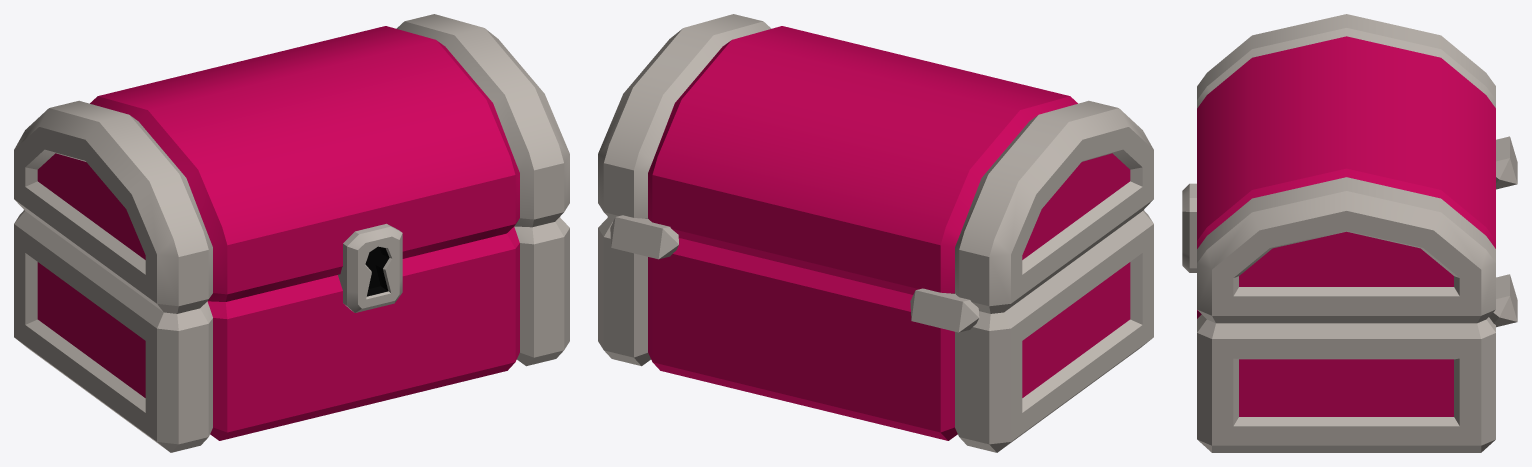
The model's file is m_dec_dung_chestLargeA_closed.fbx.
3 views of the same model, side by side, from view 1: azimuth 30°, elevation 25°; view 2: azimuth 150°, elevation 25°; view 3: azimuth 270°, elevation 25° (orthographic). The views are drawn at different scales.
Visible parts, largest first — view 1: m_dec_dung_chestLargeA_closed; view 2: m_dec_dung_chestLargeA_closed; view 3: m_dec_dung_chestLargeA_closed.
Boxes of the visible parts, <box> form: m_dec_dung_chestLargeA_closed: <box>14,14,569,452</box>; m_dec_dung_chestLargeA_closed: <box>598,14,1153,452</box>; m_dec_dung_chestLargeA_closed: <box>1182,14,1517,452</box>.
Size of the model in its own units: 3 by 1.93 by 2.24.
